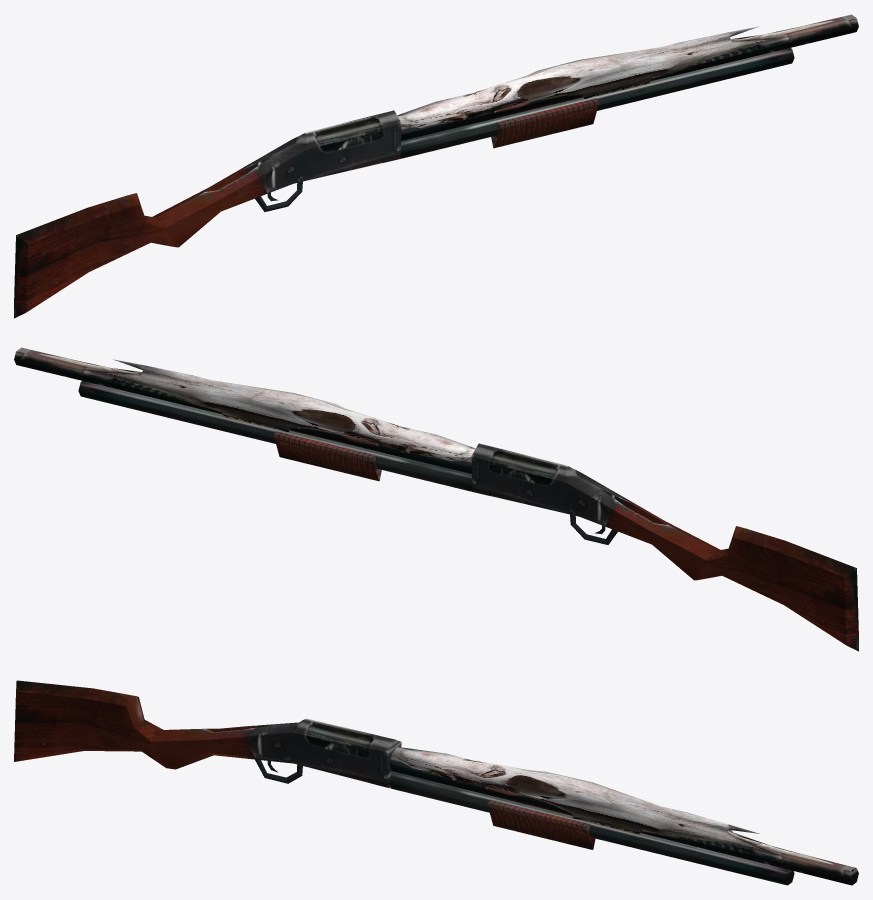
File: shotgun.fbx
The picture shows the model from 3 angles, top to bottom: view 1: azimuth 30°, elevation 25°; view 2: azimuth 150°, elevation 25°; view 3: azimuth 330°, elevation 25°; orthographic projection.
Parts seen in each view (by area): view 1: Cylinder.002; view 2: Cylinder.002; view 3: Cylinder.002.
Part boxes in pixels (x1,y1,x2,y2): Cylinder.002: (14,14,858,318); Cylinder.002: (14,347,858,651); Cylinder.002: (14,680,858,885).
Bounding box in the file's own units: 493 × 67.14 × 16.47.
1 material, 1 textured.
